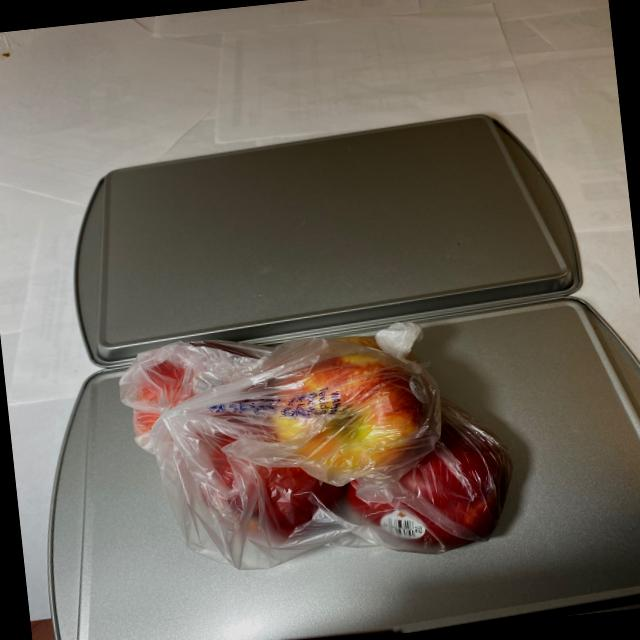apple: (112, 304, 524, 584)
